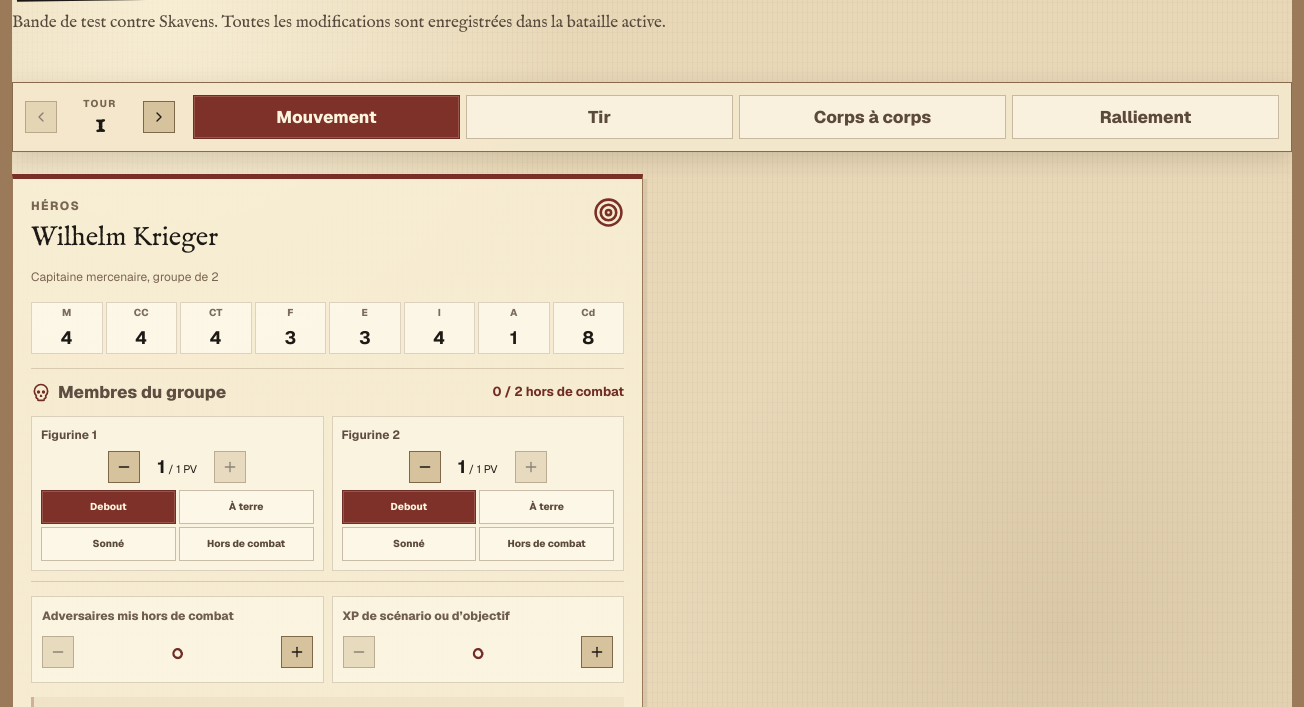
Test case: la blessure d’un membre ne change ni les PV ni l’état des autres figurines
What coordinates should you click on to do the following:
click the button named "Retirer un Point de Vie à Wilhelm Krieger, figurine 2"
I would click on:
 (425, 467)
Its box is [409,451,441,483].
(page scrolled)
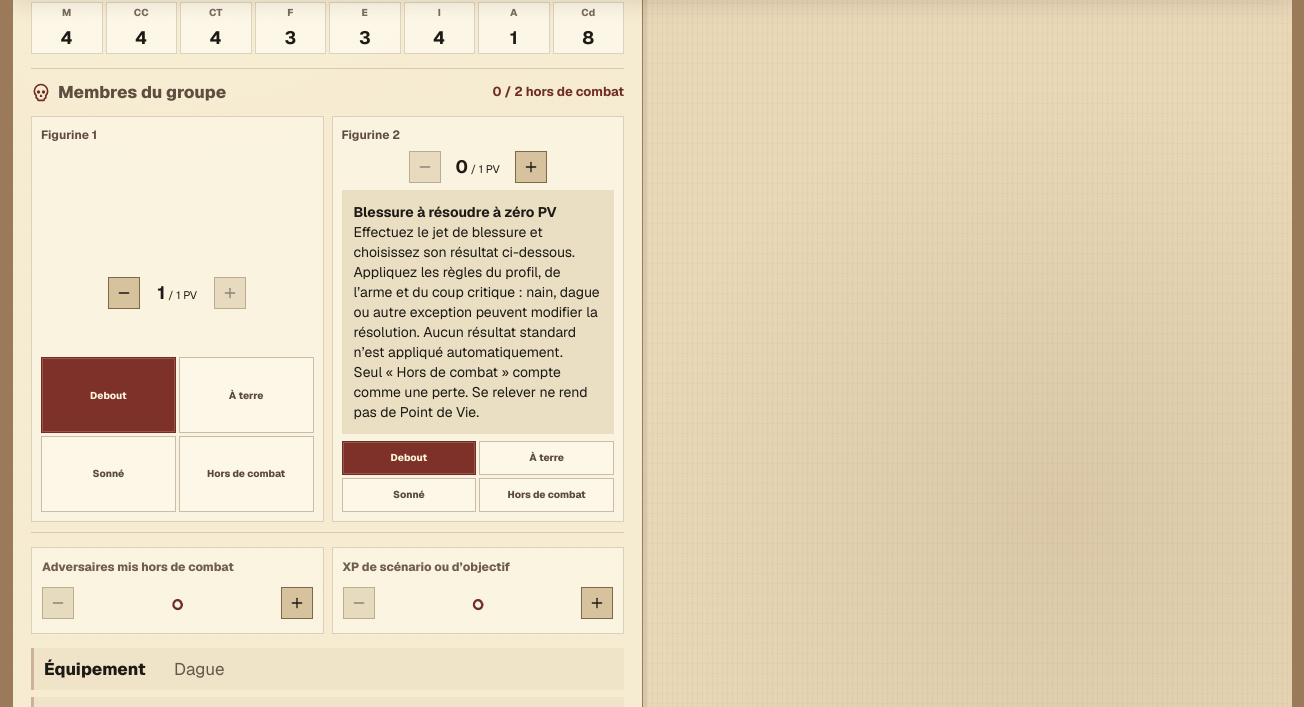
Expected: the message named "figurine 2" is shown, [342,190,614,434]
